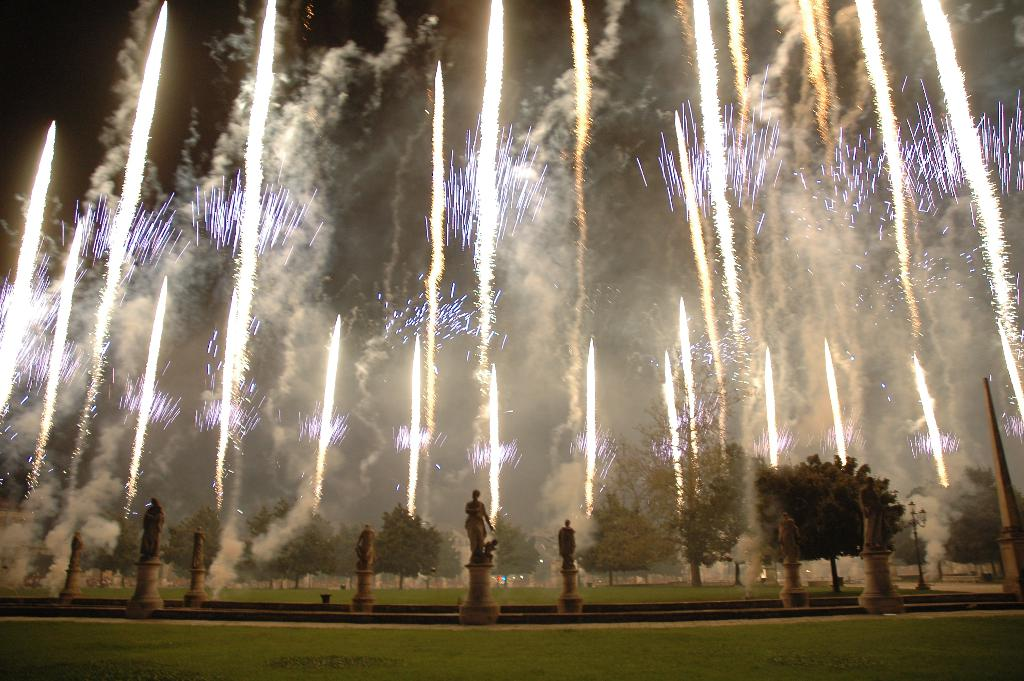Tree: (629, 347, 764, 586), (752, 447, 913, 593), (704, 441, 771, 596), (605, 426, 661, 591), (947, 458, 1020, 577), (574, 478, 645, 590), (481, 512, 555, 587), (163, 501, 232, 576), (269, 504, 327, 592), (891, 486, 954, 566), (370, 506, 425, 584), (92, 518, 138, 592), (318, 520, 361, 590), (243, 501, 289, 538), (433, 529, 467, 579), (420, 526, 444, 587)
